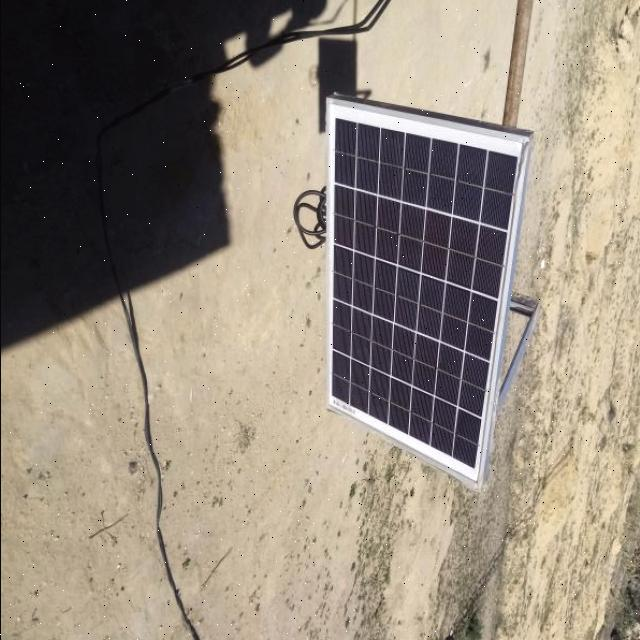Normal Solar Panel: (328, 98, 526, 486)
